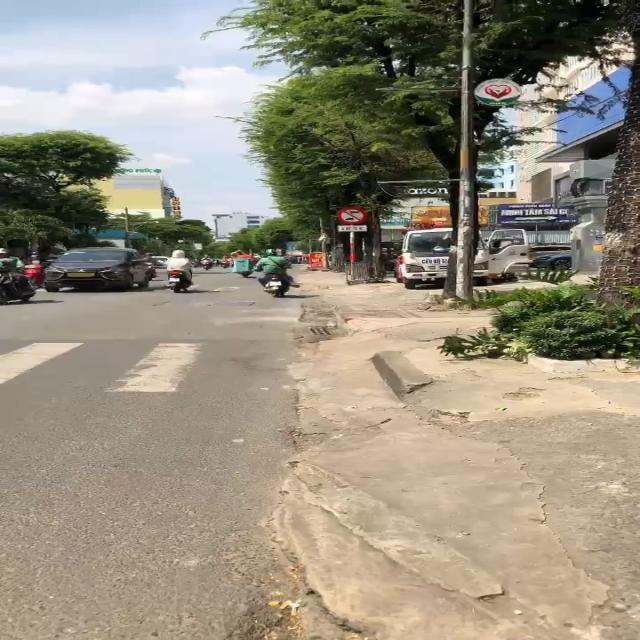Bien bao cam xe oto khach va xe oto tai: (334, 204, 371, 224)
